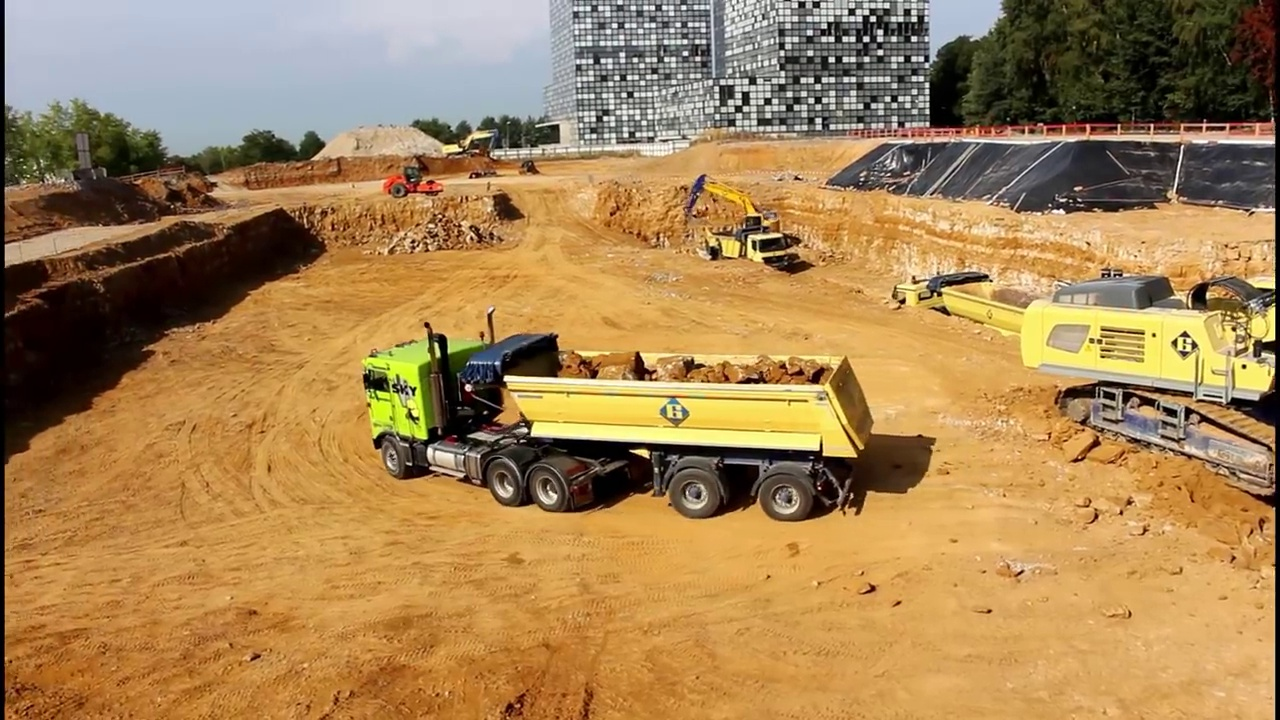compactor: (381, 161, 446, 202)
excavator: (1019, 268, 1280, 500), (681, 171, 789, 245), (438, 123, 505, 164)
truck: (358, 303, 878, 526), (889, 265, 1082, 374), (698, 228, 798, 275)
